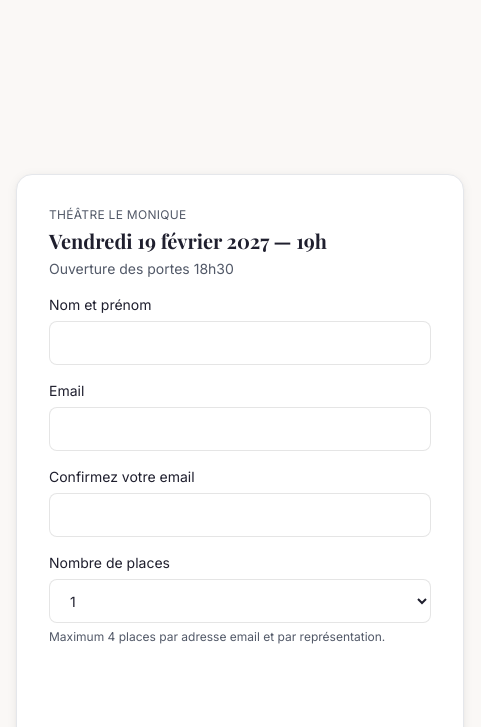
Test case: form › the button is disabled and relabelled while the request is in flight
Earlier steps of the test are not shown.
Later steps or results of the test are not shown.
(page scrolled)
Type "Jean Dupont" into the field labelled "Nom et prénom" at (240, 343), box [49, 321, 431, 365]
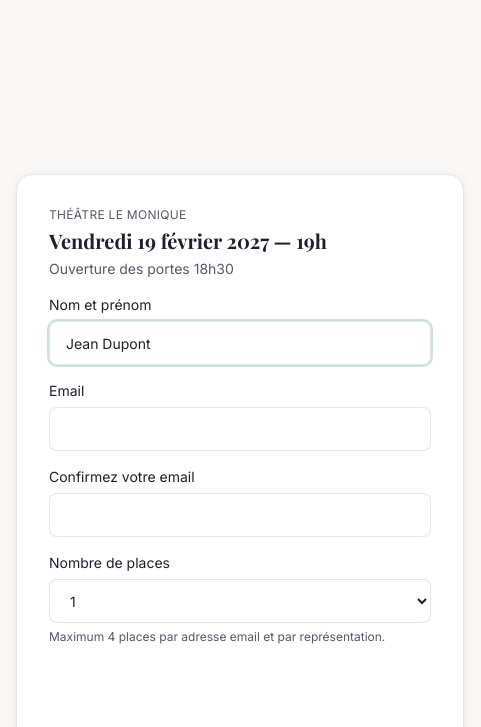
Type "jean@example.com" into the field labelled "Email" at (240, 429), box [49, 407, 431, 451]
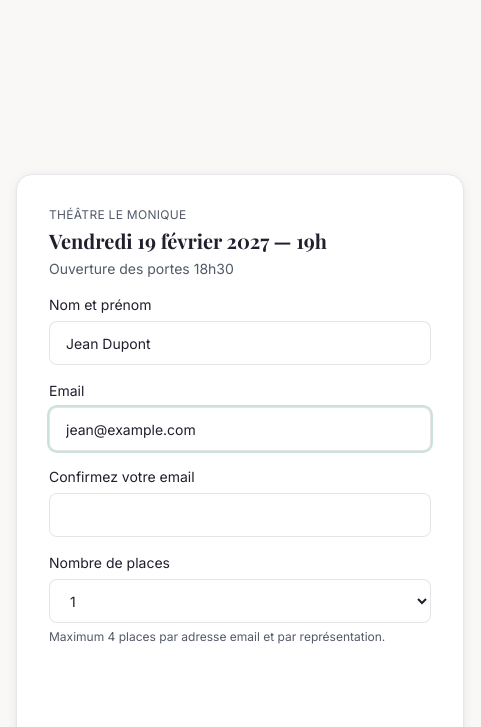
Type "jean@example.com" into the field labelled "Confirmez votre email" at (240, 515), box [49, 493, 431, 537]
(page scrolled)
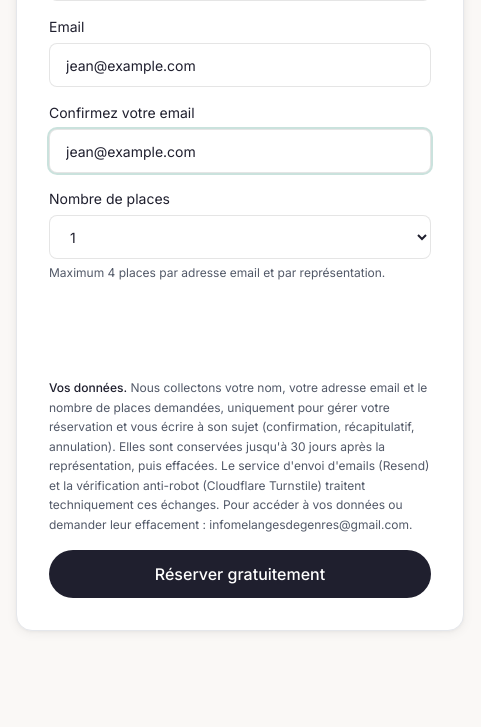
Click the button "Réserver gratuitement" at (240, 574), box [49, 550, 431, 598]
(page scrolled)
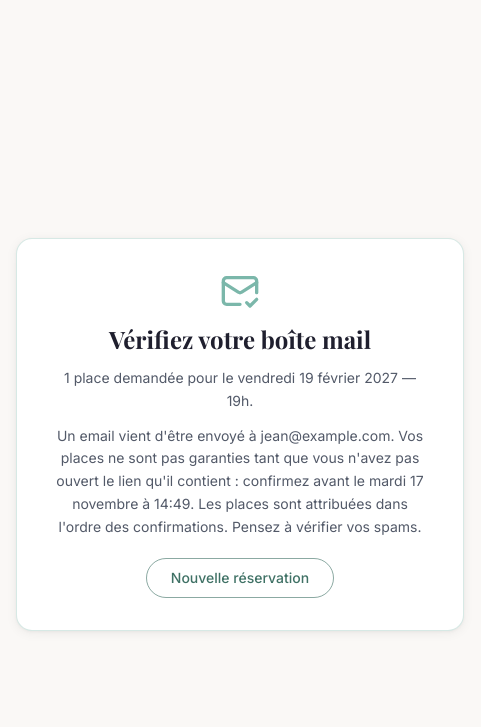
Result: the heading "Vérifiez votre boîte mail" is shown at [109, 323, 371, 355]
